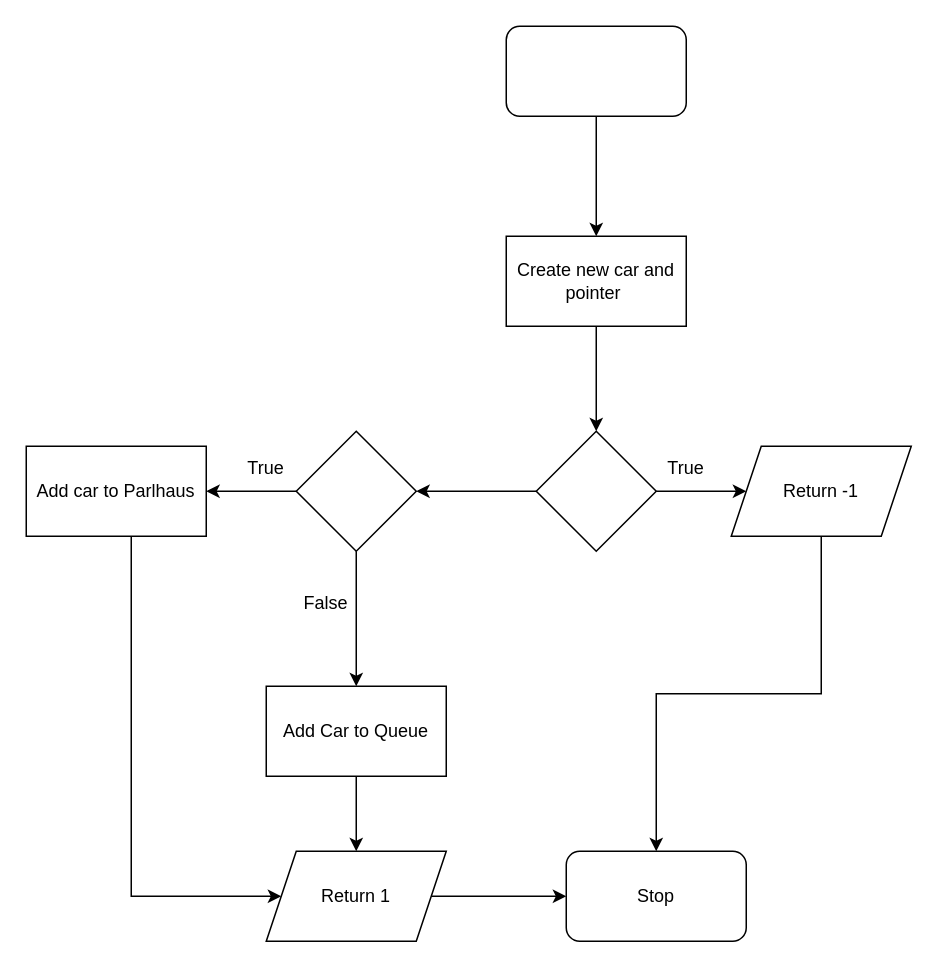
This 938x968 diagram has some shape labels left out. Each missing label, with the centre of its shape:
Pointer is NULL: the point at 595,490
start input_new_car: the point at 595,70
There are free spaces: the point at 355,490
